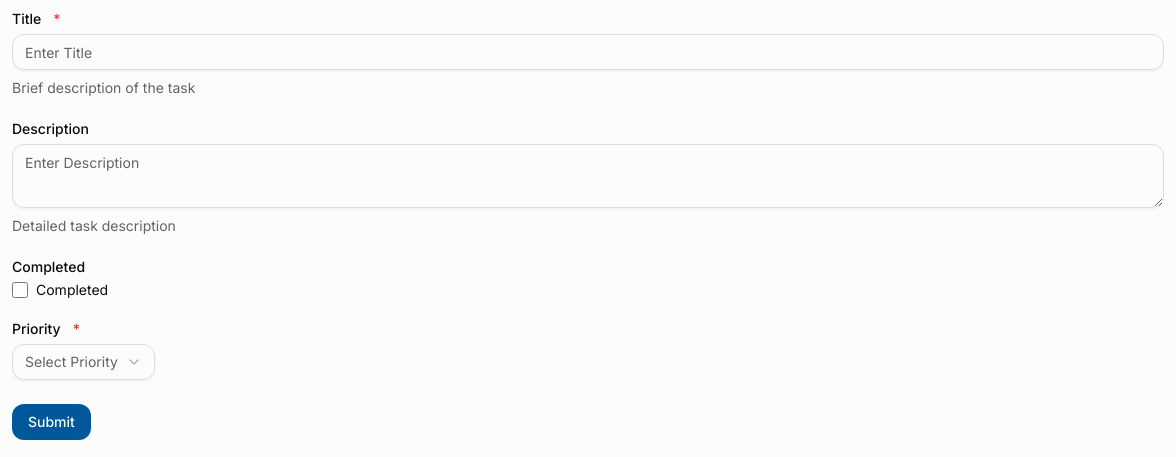
it: DynamicForm › should disable submit button while submitting
Type "Test" into the field labelled "Title *" at x=588, y=52, box [12, 34, 1164, 70]
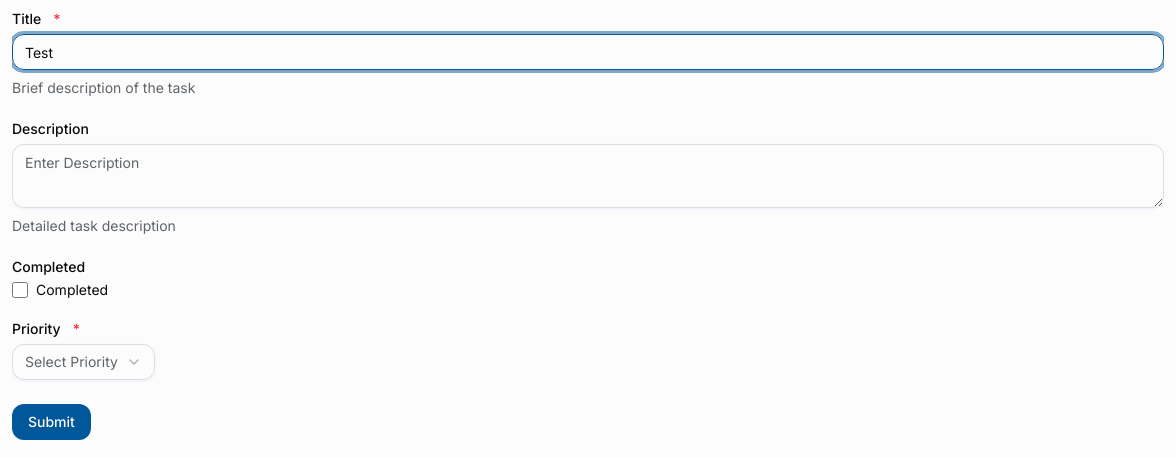
Click the button "Submit" at x=51, y=422, box [12, 404, 91, 440]
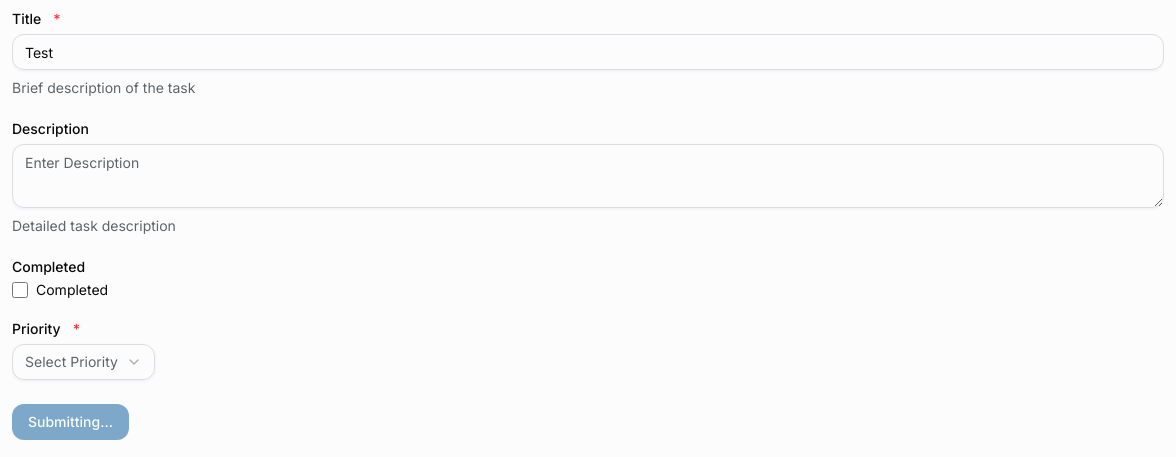
Now the button "Submitting..." is shown, box [12, 404, 129, 440]
